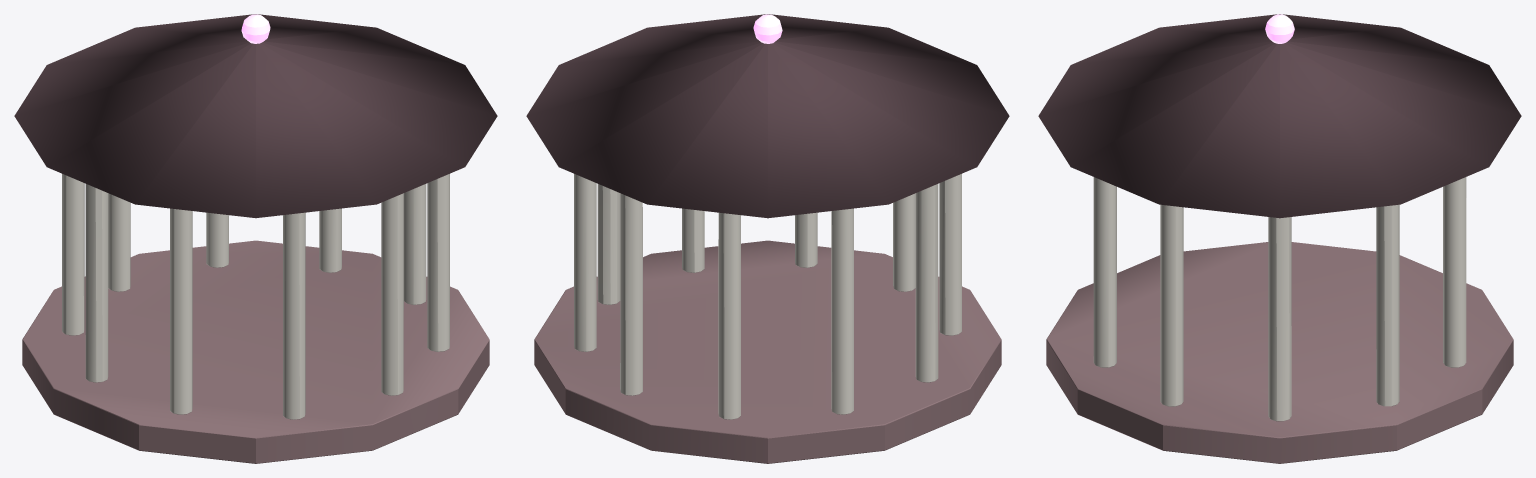
File: SM_Neroberg_Monopteros_LOD1.fbx
The picture shows the model from 3 angles, left to right: view 1: azimuth 30°, elevation 25°; view 2: azimuth 150°, elevation 25°; view 3: azimuth 270°, elevation 25°; orthographic projection.
Parts seen in each view (by area): view 1: SM_Neroberg_Monopteros_LOD1; view 2: SM_Neroberg_Monopteros_LOD1; view 3: SM_Neroberg_Monopteros_LOD1.
Part boxes in pixels (x1,y1,x2,y2): SM_Neroberg_Monopteros_LOD1: (14,14,497,463); SM_Neroberg_Monopteros_LOD1: (526,14,1009,463); SM_Neroberg_Monopteros_LOD1: (1038,14,1521,463).
Size of the model in its own units: 5.79 by 4.63 by 5.79.
